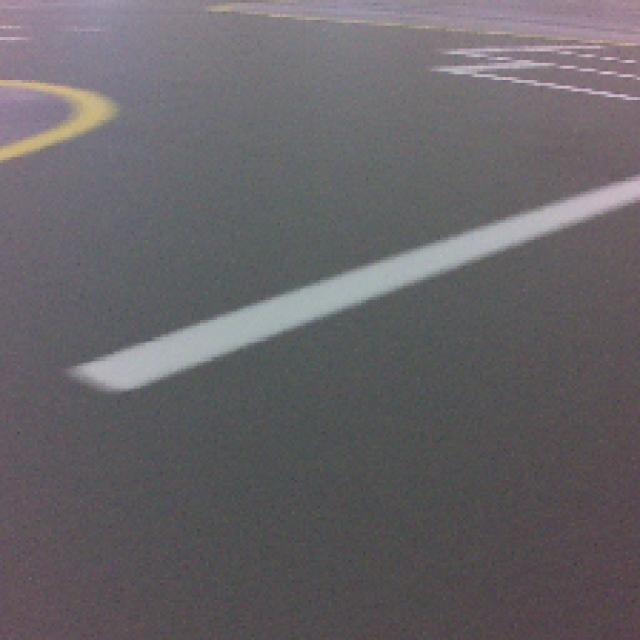Guard rail: (84, 175, 640, 388)
